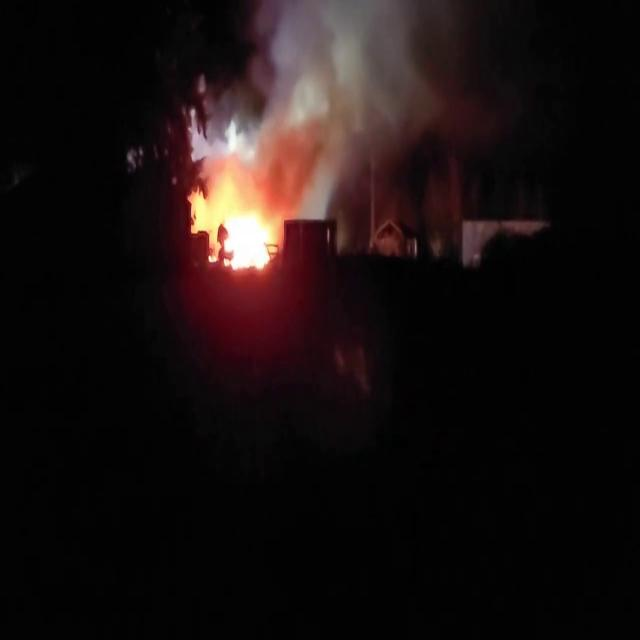fire: (193, 172, 283, 280)
smoke: (225, 2, 499, 192)
